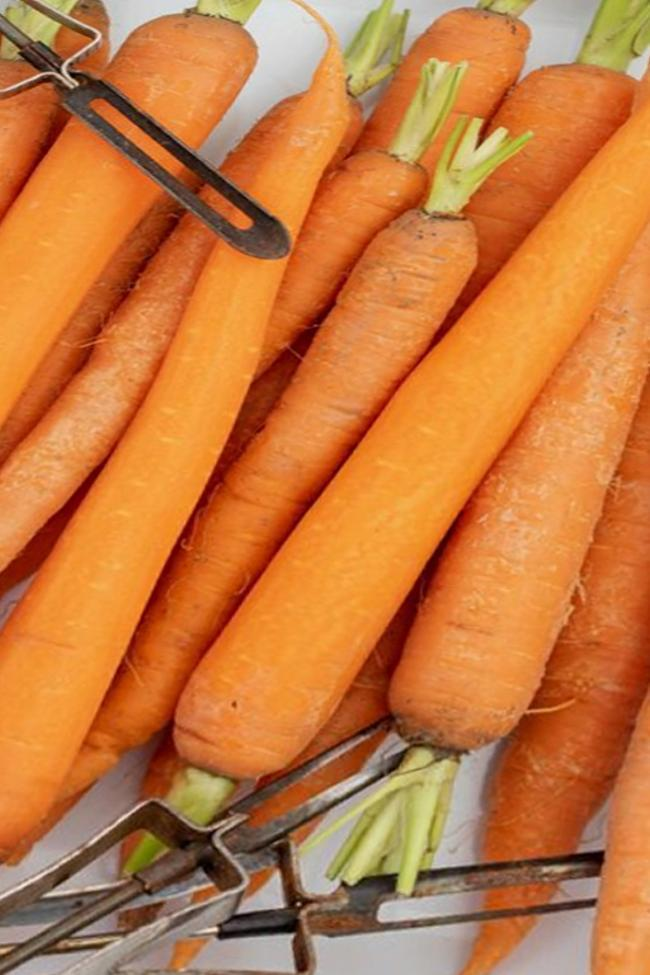carrot: (89, 30, 650, 814), (33, 206, 555, 818)
